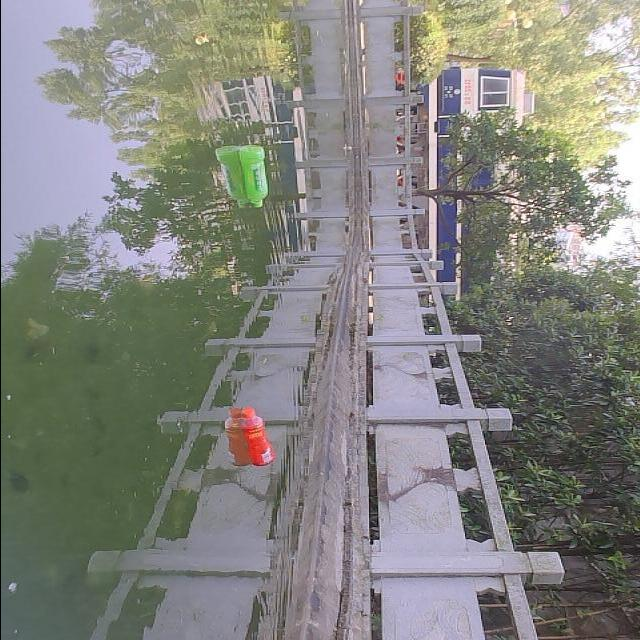Bottle: (232, 400, 278, 474), (232, 138, 273, 214)
